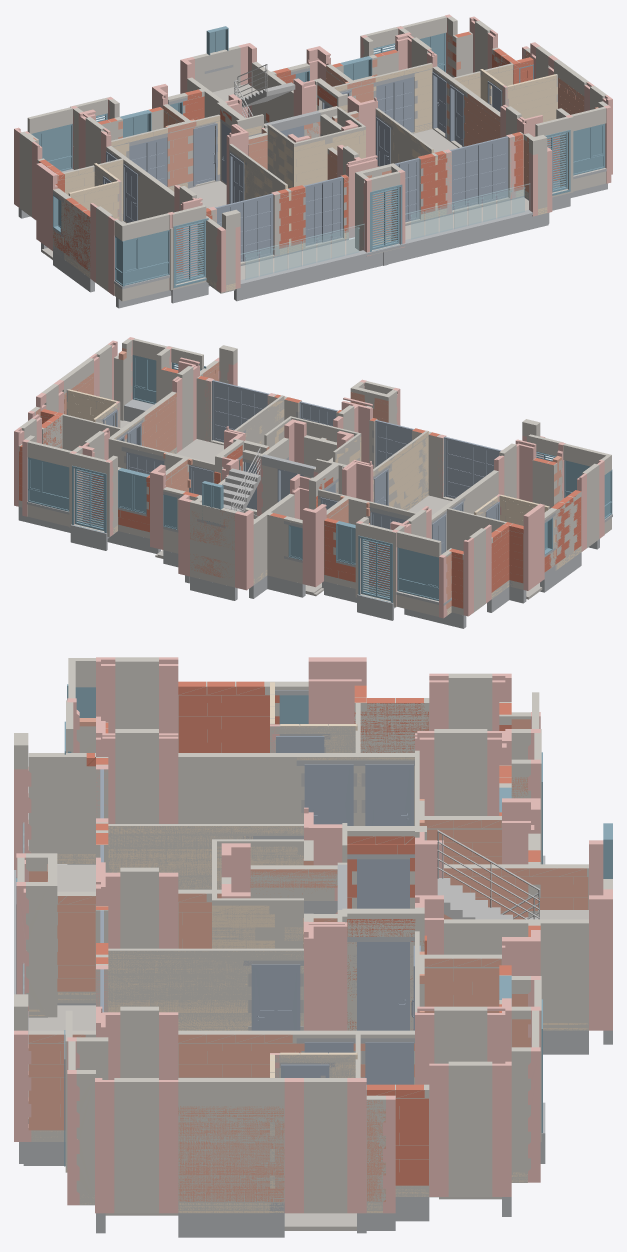
3 views of the same model, one above another, from view 1: azimuth 30°, elevation 25°; view 2: azimuth 150°, elevation 25°; view 3: azimuth 270°, elevation 25° (orthographic). The views are drawn at different scales.
Visible parts, largest first — view 1: C_Q, C_Z.001, C_M, C_W, C_QC__T100, C_L, C_QC__T250, C_QC__T200, C_G, C_B, C_QT; view 2: C_Q, C_Z.001, C_W, C_M, C_L, C_QC__T250, C_QC__T200, C_QC__T100, C_QT, C_B; view 3: C_Q, C_Z.001, C_QC__T200, C_M, C_QC__T250, C_QC__T100, C_L, C_B, C_QT, C_W.
Boxes of the visible parts, bbox=[...] form: C_Q: bbox=[19, 16, 607, 301]; C_Z.001: bbox=[14, 14, 612, 295]; C_M: bbox=[103, 72, 508, 261]; C_W: bbox=[31, 26, 605, 287]; C_QC__T100: bbox=[62, 63, 563, 290]; C_L: bbox=[18, 63, 607, 308]; C_QC__T250: bbox=[33, 31, 559, 272]; C_QC__T200: bbox=[118, 33, 598, 238]; C_G: bbox=[241, 183, 530, 279]; C_B: bbox=[19, 84, 528, 294]; C_QT: bbox=[61, 64, 492, 235]; C_Q: bbox=[18, 338, 611, 616]; C_Z.001: bbox=[14, 337, 604, 618]; C_W: bbox=[27, 355, 612, 602]; C_M: bbox=[103, 380, 501, 554]; C_L: bbox=[18, 399, 612, 628]; C_QC__T250: bbox=[19, 367, 581, 608]; C_QC__T200: bbox=[36, 348, 562, 608]; C_QC__T100: bbox=[66, 389, 581, 614]; C_QT: bbox=[105, 411, 412, 522]; C_B: bbox=[120, 420, 598, 615]; C_Q: bbox=[14, 657, 612, 1213]; C_Z.001: bbox=[14, 657, 612, 1213]; C_QC__T200: bbox=[28, 718, 588, 1201]; C_M: bbox=[100, 736, 420, 1084]; C_QC__T250: bbox=[86, 681, 540, 1185]; C_QC__T100: bbox=[29, 682, 588, 1212]; C_L: bbox=[14, 690, 612, 1237]; C_B: bbox=[28, 864, 588, 1230]; C_QT: bbox=[248, 747, 540, 1077]; C_W: bbox=[16, 684, 612, 1166].
Bounding box in the file's own units: 20.8 × 4.5 × 12.4.
